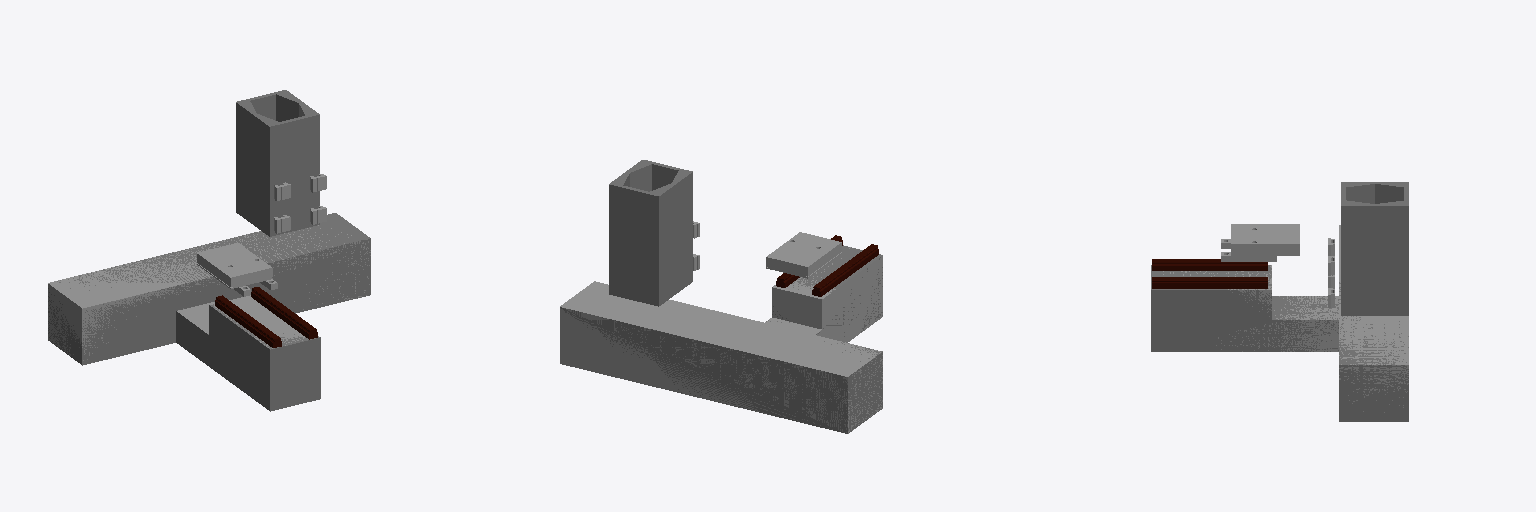
3 renders of one model, left to right at view 1: azimuth 30°, elevation 25°; view 2: azimuth 150°, elevation 25°; view 3: azimuth 270°, elevation 25°, orthographic.
Parts seen in each view (by area): view 1: Mesh.006_Mesh.001_baseT, Mesh.004_Mesh.002_Ybase, Mesh_baseT, Mesh.002_adapterplate-z, Mesh.003_Mesh_Zschiene, Mesh.001_wagen-z.002; view 2: Mesh_baseT, Mesh.006_Mesh.001_baseT, Mesh.004_Mesh.002_Ybase, Mesh.002_adapterplate-z, Mesh.003_Mesh_Zschiene; view 3: Mesh.006_Mesh.001_baseT, Mesh.004_Mesh.002_Ybase, Mesh_baseT, Mesh.002_adapterplate-z, Mesh.003_Mesh_Zschiene.
Boxes of the visible parts, <box> form: Mesh.006_Mesh.001_baseT: <box>48,213,370,411</box>; Mesh.004_Mesh.002_Ybase: <box>236,90,319,236</box>; Mesh_baseT: <box>48,225,370,362</box>; Mesh.002_adapterplate-z: <box>197,243,277,296</box>; Mesh.003_Mesh_Zschiene: <box>215,287,317,347</box>; Mesh.001_wagen-z.002: <box>274,174,326,233</box>; Mesh_baseT: <box>560,247,882,433</box>; Mesh.006_Mesh.001_baseT: <box>560,245,882,433</box>; Mesh.004_Mesh.002_Ybase: <box>609,160,692,306</box>; Mesh.002_adapterplate-z: <box>766,232,841,278</box>; Mesh.003_Mesh_Zschiene: <box>776,235,878,296</box>; Mesh.006_Mesh.001_baseT: <box>1151,265,1408,421</box>; Mesh.004_Mesh.002_Ybase: <box>1341,182,1408,315</box>; Mesh_baseT: <box>1163,225,1408,412</box>; Mesh.002_adapterplate-z: <box>1221,224,1299,261</box>; Mesh.003_Mesh_Zschiene: <box>1152,259,1267,288</box>.
Size of the model in its own units: 1000 by 636 by 777.